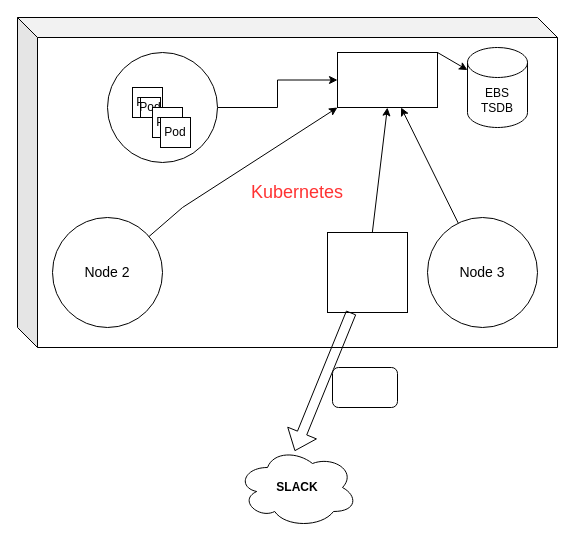
The diagram is 575 pixels wide and 545 high, and some of its shapes have lost their labels. Here are the shapes that lost their labels. From the top down, the box of each, then its label:
(336, 52, 438, 108): Prometheus
(106, 52, 218, 162): Node 1
(326, 232, 408, 312): Grafana
(332, 366, 398, 408): ALERTS
